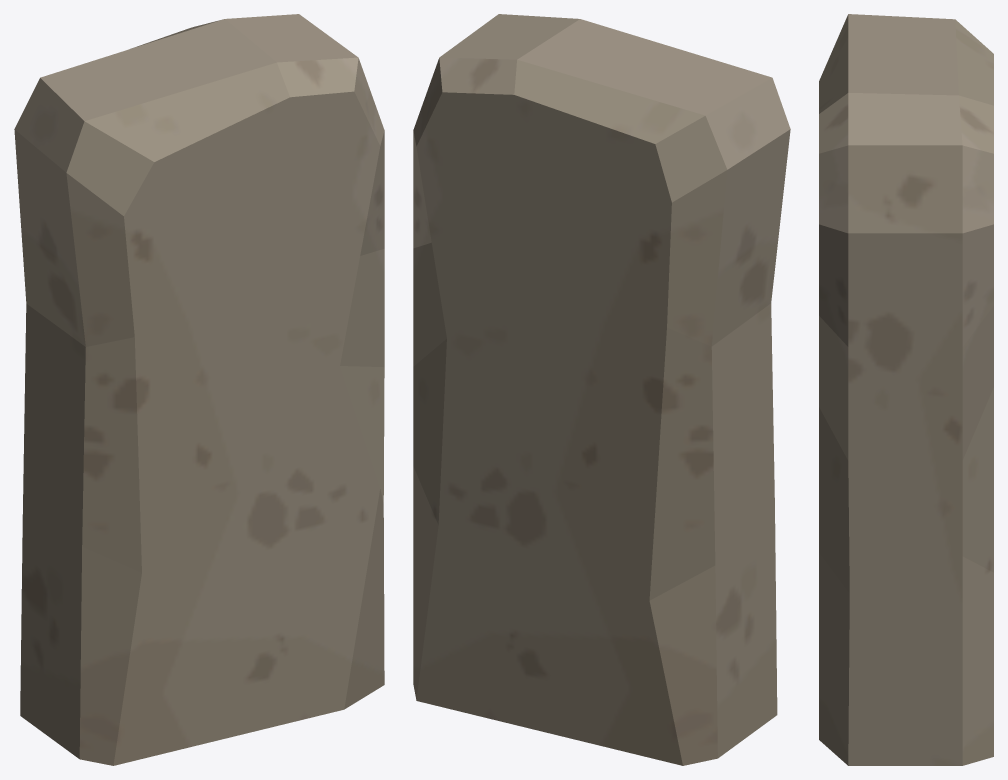
File: SM_Env_Ruin_01.glb
3 renders of one model, left to right at view 1: azimuth 30°, elevation 25°; view 2: azimuth 150°, elevation 25°; view 3: azimuth 270°, elevation 25°, orthographic. The views are drawn at different scales.
Parts seen in each view (by area): view 1: SM_Env_Ruin_01; view 2: SM_Env_Ruin_01; view 3: SM_Env_Ruin_01.
Boxes of the visible parts, <box> form: SM_Env_Ruin_01: <box>14,14,384,765</box>; SM_Env_Ruin_01: <box>413,14,790,765</box>; SM_Env_Ruin_01: <box>819,14,993,765</box>.
Bounding box in the file's own units: 1.82 × 3.55 × 0.9027.
1 material, 1 textured.
